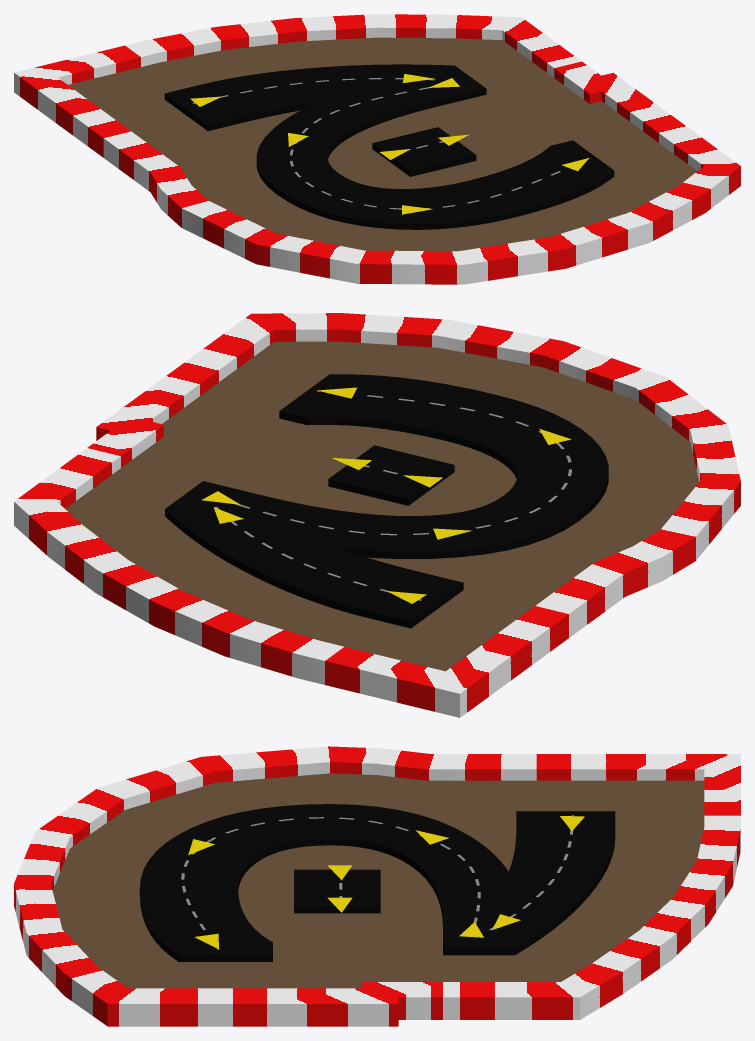
File: jeem.FBX
3 views of the same model, one above another, from view 1: azimuth 30°, elevation 25°; view 2: azimuth 150°, elevation 25°; view 3: azimuth 270°, elevation 25° (orthographic). The views are drawn at different scales.
Parts seen in each view (by area): view 1: jim_floor, jim_coll, jim, line1; view 2: jim_floor, jim_coll, jim, line1; view 3: jim_floor, jim_coll, jim, line1.
Part boxes in pixels (x1,y1,x2,y2): jim_floor: (68, 37, 697, 251); jim_coll: (14, 14, 740, 284); jim: (164, 64, 614, 229); line1: (290, 87, 589, 209); jim_floor: (65, 341, 698, 671); jim_coll: (14, 313, 740, 717); jim: (165, 374, 608, 628); line1: (236, 390, 571, 535); jim_floor: (52, 773, 704, 988); jim_coll: (14, 746, 740, 1026); jim: (139, 804, 615, 961); line1: (181, 817, 480, 949).
Size of the model in its own units: 800 by 32.77 by 955.
